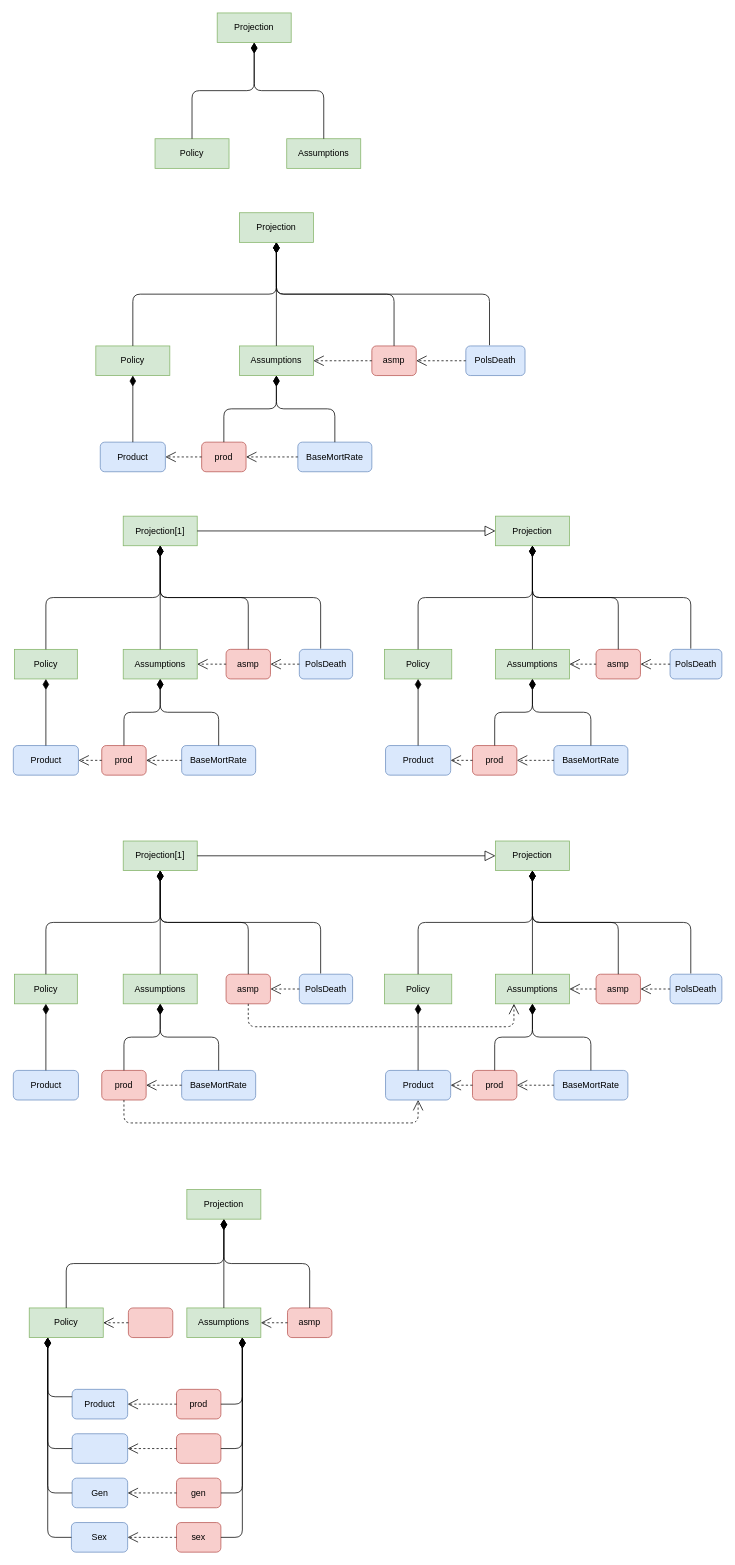
Image size: 735x1565. Some labels were removed from this diagram. The centre of each missing label's shape, as x and y in pixels:
"pol" goes at point (150, 1322).
"PolicyType" goes at point (99, 1448).
"polt" goes at point (198, 1448).
